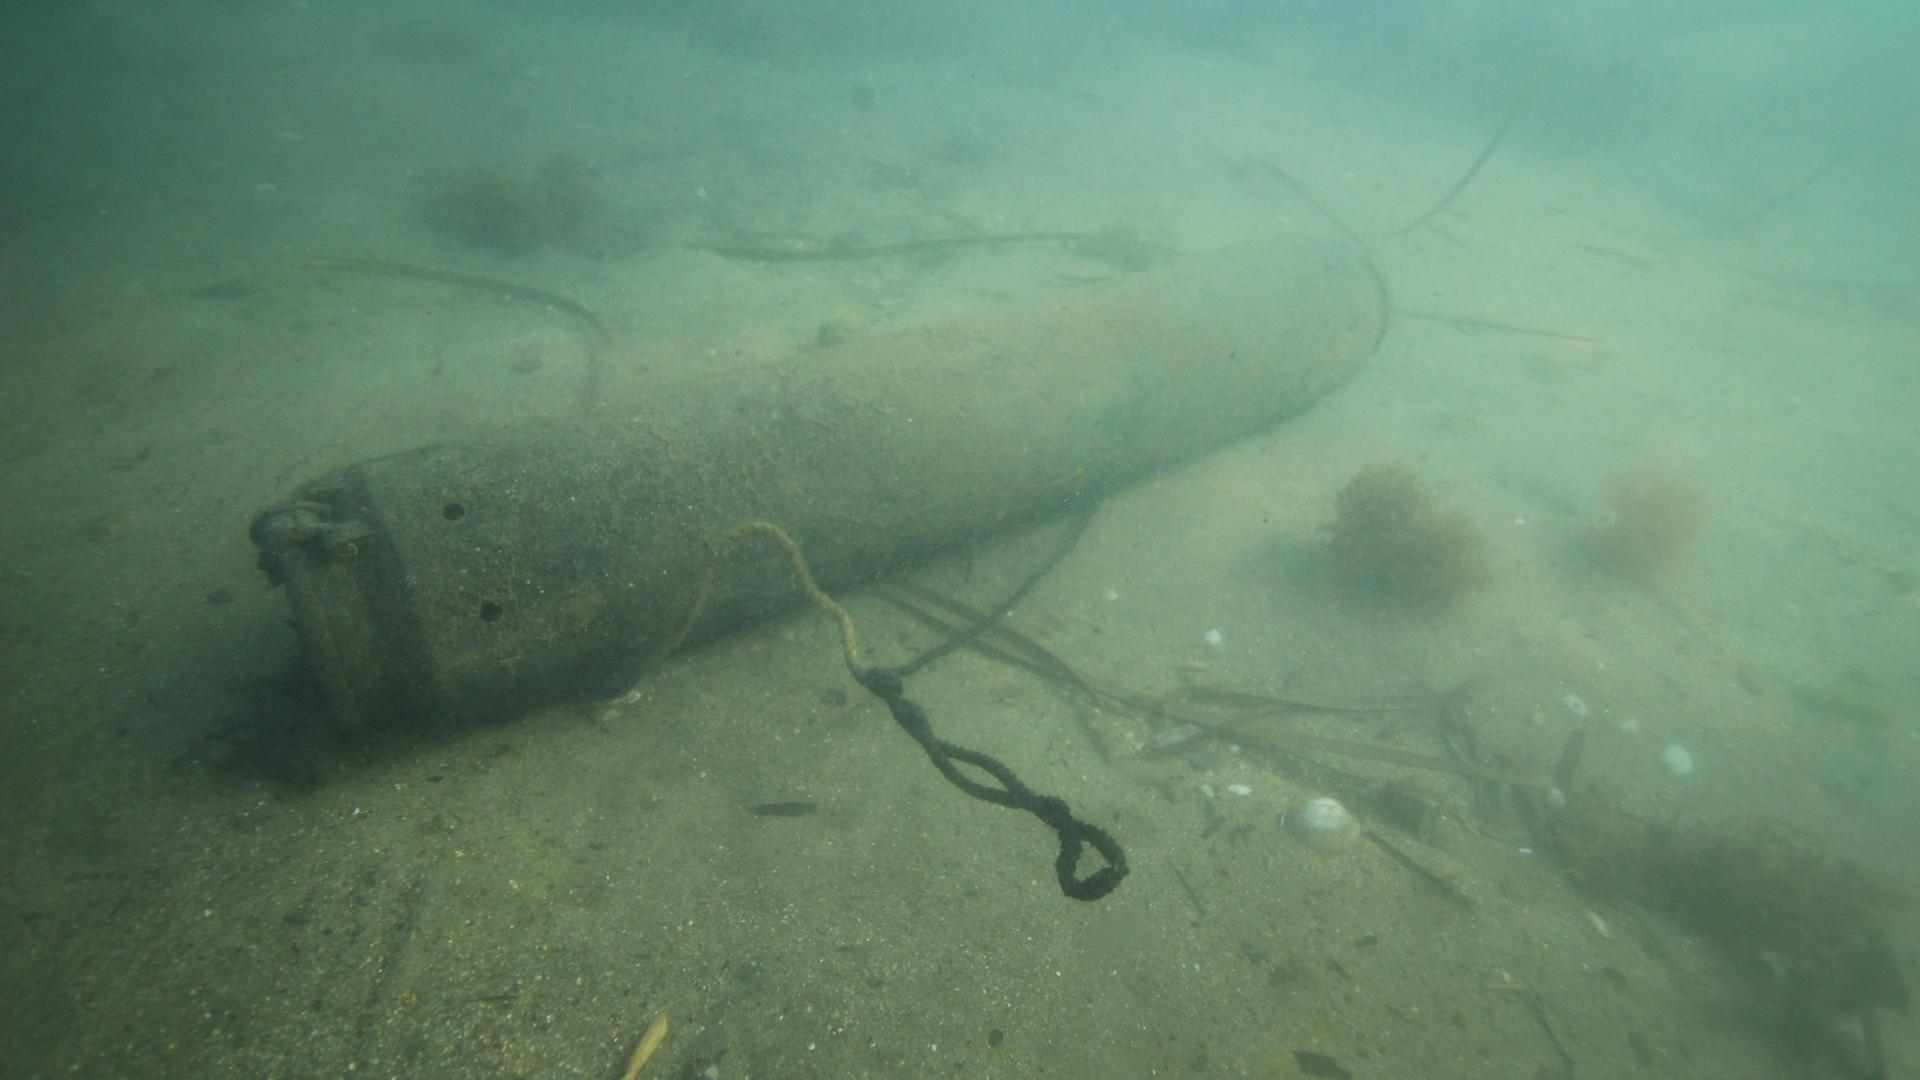eel fish trap: (252, 225, 1395, 742)
rope: (629, 518, 1127, 902)
